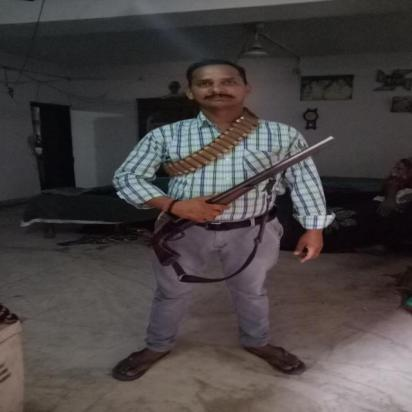Gun: (141, 134, 338, 268)
